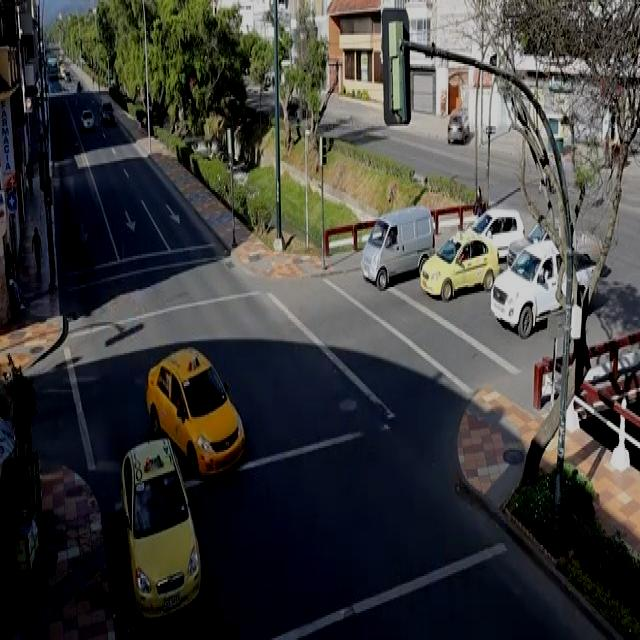CMT: (490, 242, 598, 336)
SED: (150, 351, 247, 472)
